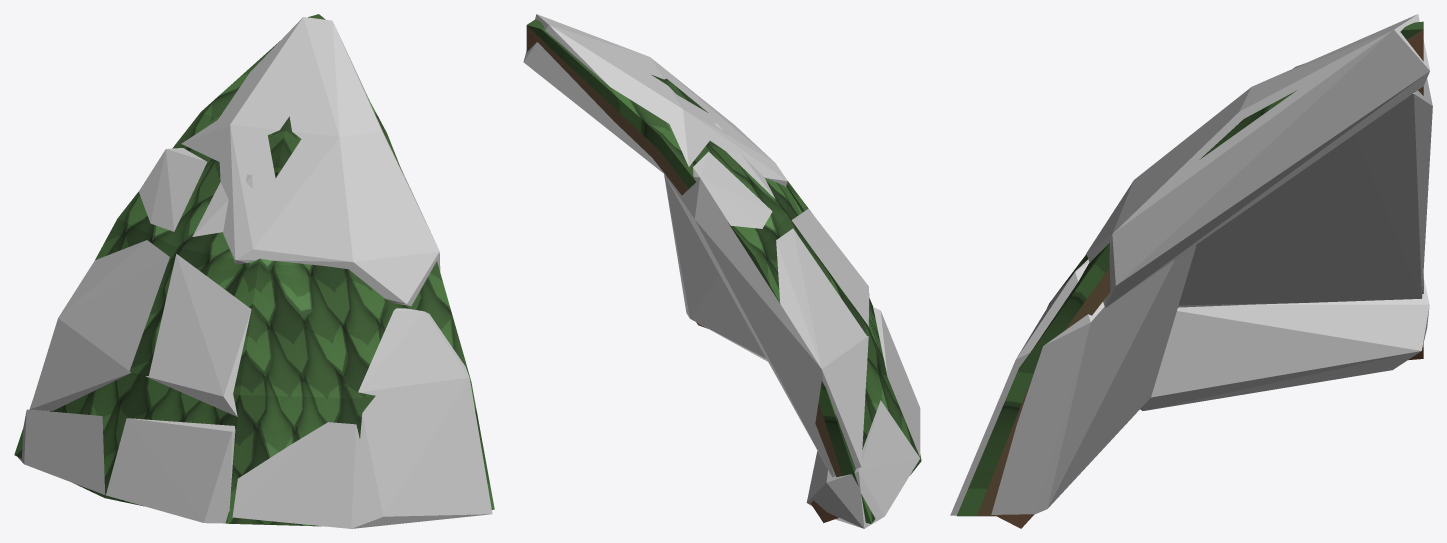
The model's file is SM_Bld_Roof_Convex_Corner_Round_01.fbx.
The picture shows the model from 3 angles, left to right: view 1: azimuth 30°, elevation 25°; view 2: azimuth 150°, elevation 25°; view 3: azimuth 270°, elevation 25°; orthographic projection. The views are drawn at different scales.
Visible parts, largest first — view 1: SM_Bld_Roof_Convex_Corner_Round_01_ConvexHulls, SM_Bld_Roof_Convex_Corner_Round_01; view 2: SM_Bld_Roof_Convex_Corner_Round_01_ConvexHulls, SM_Bld_Roof_Convex_Corner_Round_01; view 3: SM_Bld_Roof_Convex_Corner_Round_01_ConvexHulls, SM_Bld_Roof_Convex_Corner_Round_01.
Part boxes in pixels (left/top/right/bottom): SM_Bld_Roof_Convex_Corner_Round_01_ConvexHulls: left=18, top=17, right=492, bottom=528; SM_Bld_Roof_Convex_Corner_Round_01: left=14, top=14, right=494, bottom=526; SM_Bld_Roof_Convex_Corner_Round_01_ConvexHulls: left=523, top=14, right=920, bottom=528; SM_Bld_Roof_Convex_Corner_Round_01: left=526, top=19, right=921, bottom=523; SM_Bld_Roof_Convex_Corner_Round_01_ConvexHulls: left=950, top=14, right=1432, bottom=515; SM_Bld_Roof_Convex_Corner_Round_01: left=957, top=21, right=1423, bottom=528.
Size of the model in its own units: 267 by 270 by 315.
Materials: 4 (3 with a texture image).
